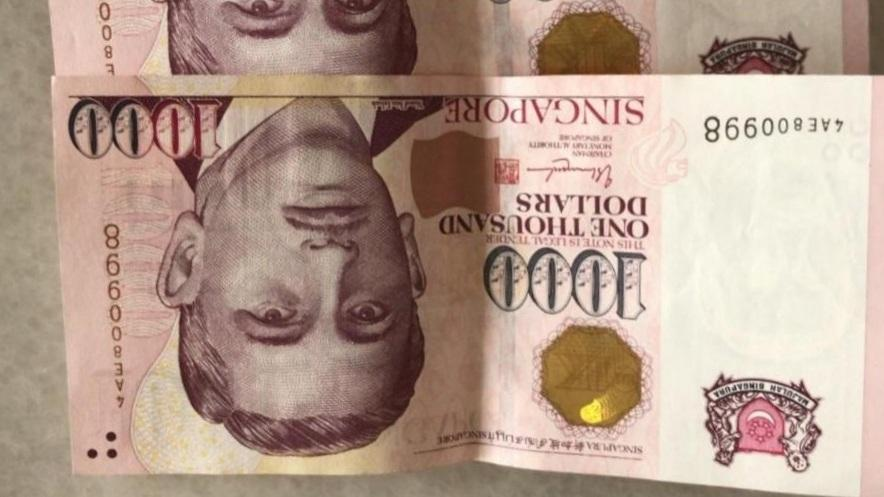1000SingaporeDollar: (69, 70, 884, 471)
